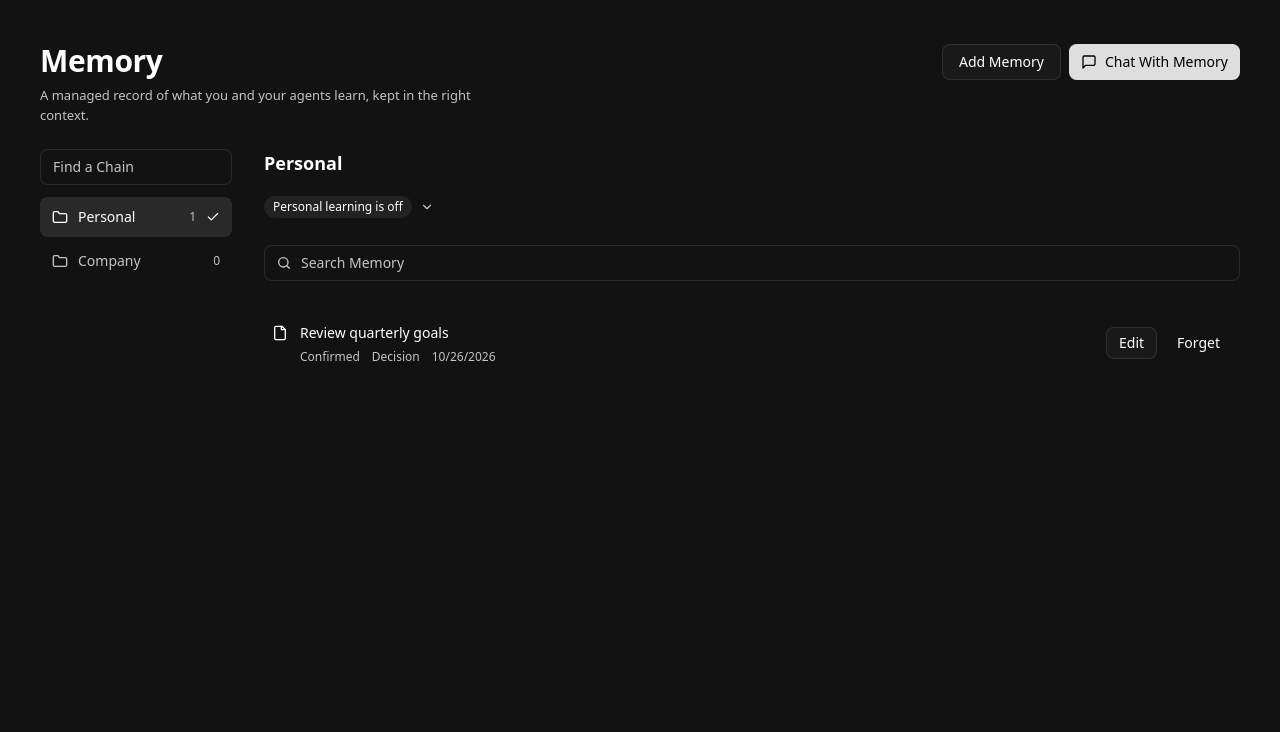
memory promotion selects an existing note and never copies private provenance
Step 1. Click the text "Review quarterly goals" → click(374, 332), box [300,322,449,342]
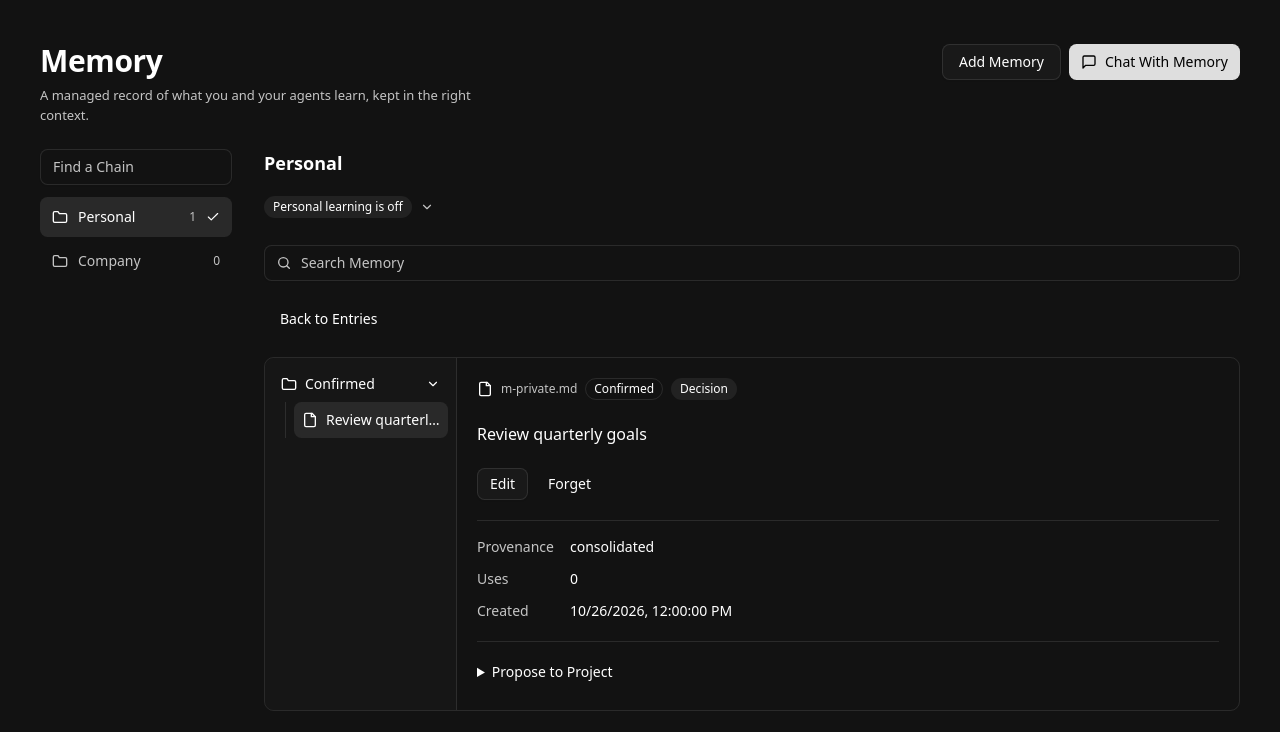
Step 2. Click the heading "Propose to Project" → click(552, 671), box [492,662,612,680]
(page scrolled)
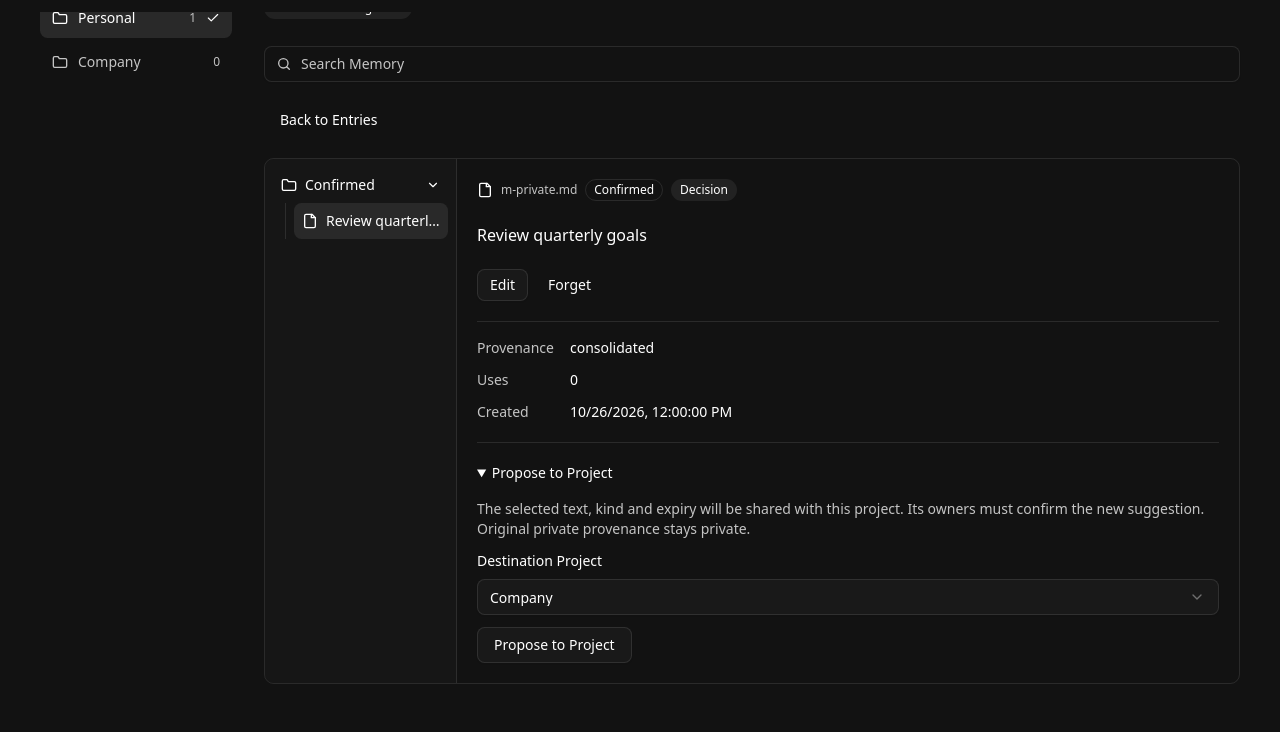
Step 3. Click the button "Propose to Project" → click(554, 644), box [477,626,632,662]
(page scrolled)
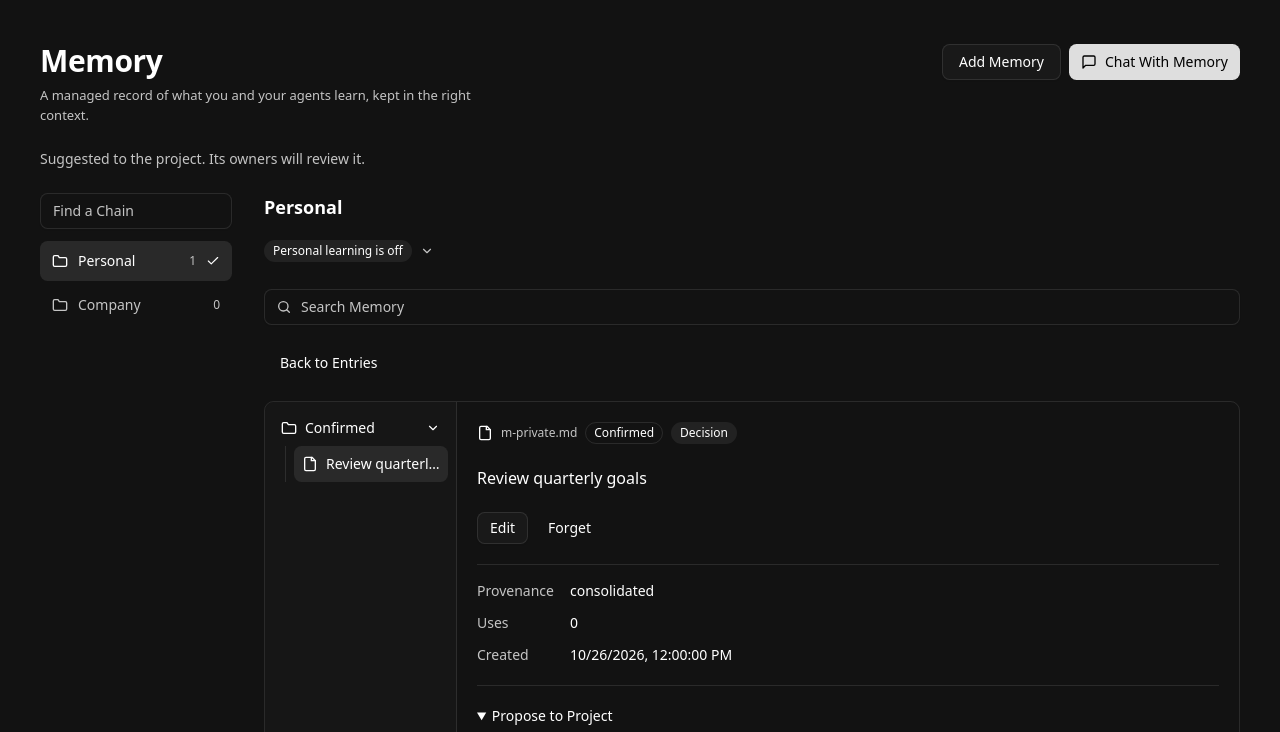
Result: the text "Suggested to the project. Its owners will review it." is shown at [40,148,365,168]
